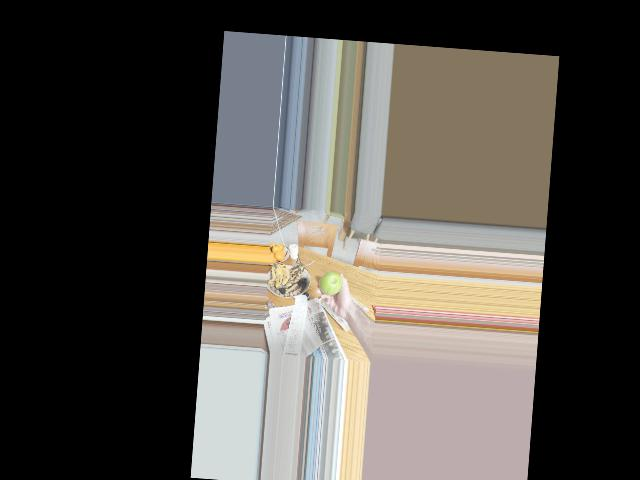apple: (317, 270, 345, 297)
